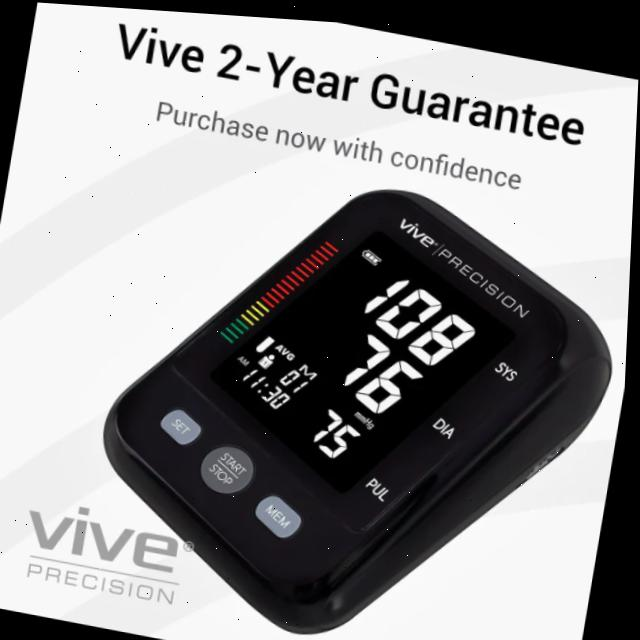dia: (324, 309, 434, 419)
pul: (296, 387, 373, 465)
ssd: (211, 199, 518, 502)
sys: (347, 253, 489, 380)
